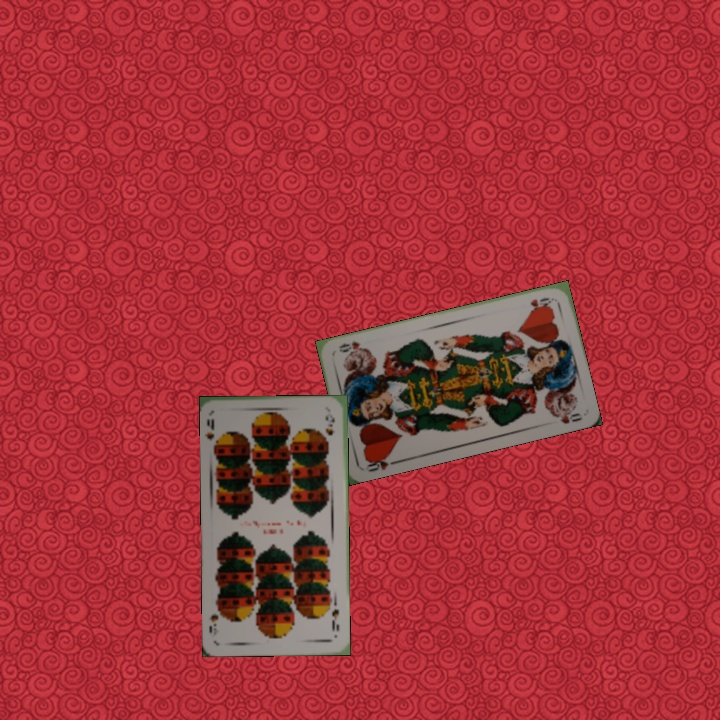HO: (361, 451, 401, 474), (526, 293, 556, 313)
S9: (203, 415, 222, 452), (328, 605, 342, 634)
